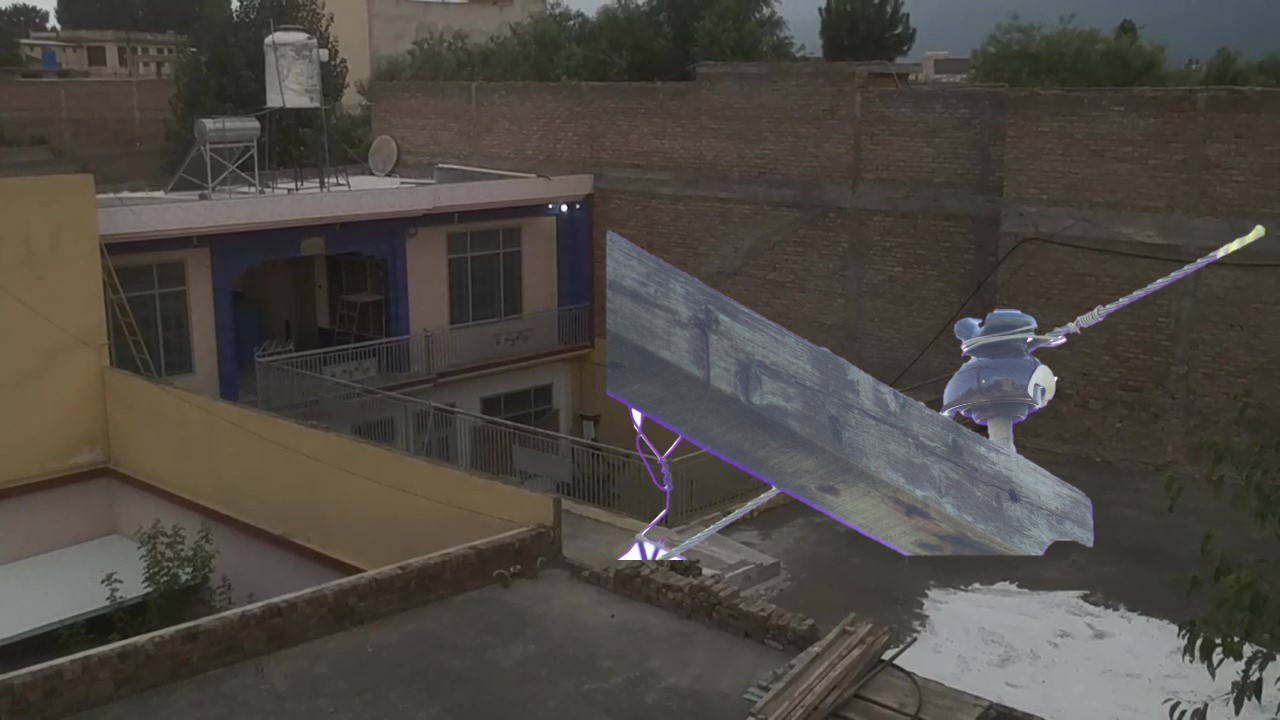defect_pin: (933, 299, 1064, 433)
